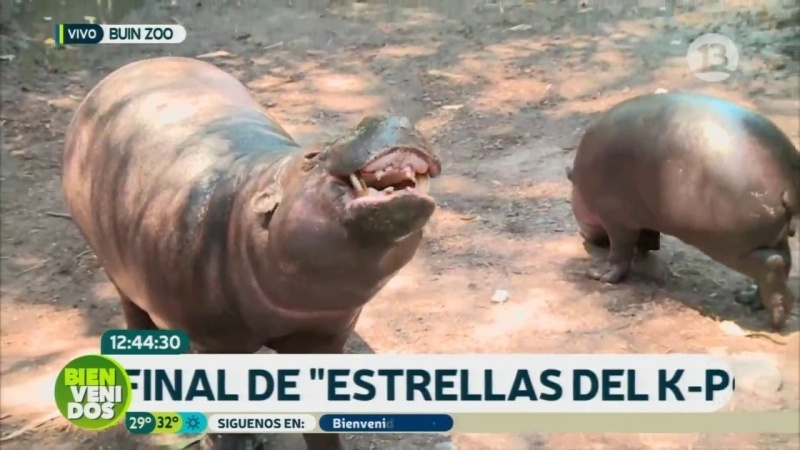hipopotamo: (36, 45, 467, 356), (524, 70, 799, 333)
